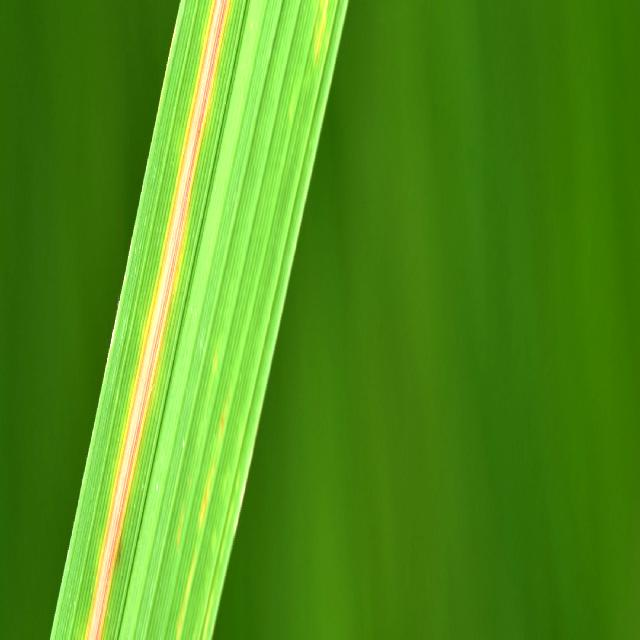BLB: (87, 0, 231, 637)
